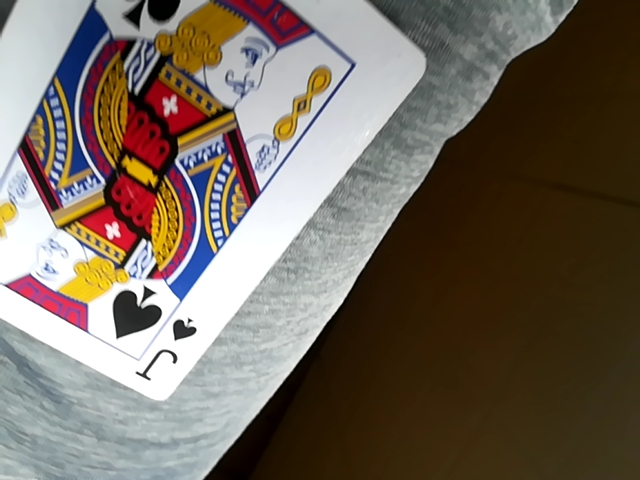ht j: (4, 0, 427, 411)
